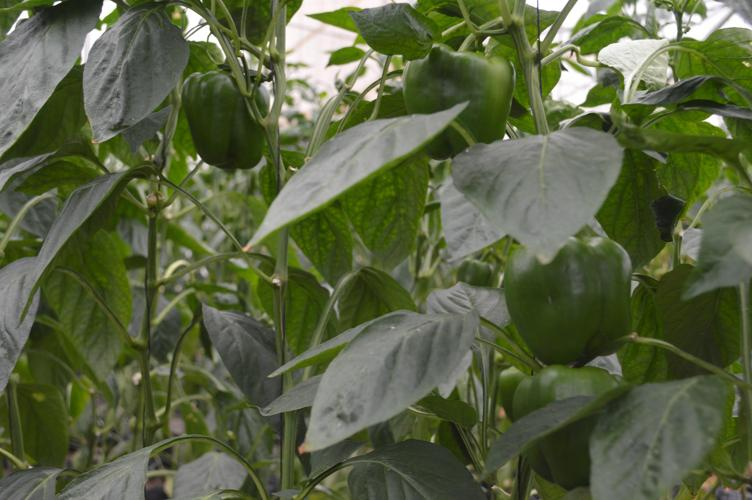BellPepper: (498, 238, 641, 362), (501, 360, 623, 480), (402, 51, 513, 146), (179, 72, 270, 167)
